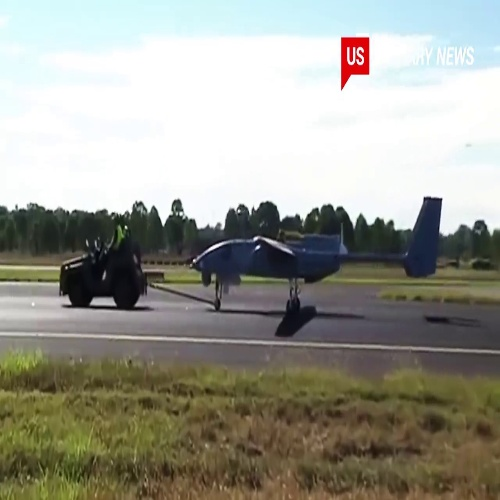uav257: (191, 194, 444, 313)
